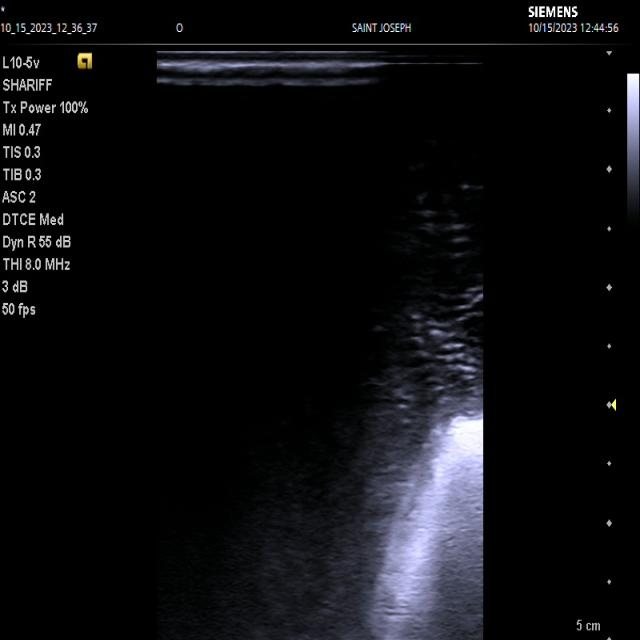tissue: (366, 411, 483, 640)
